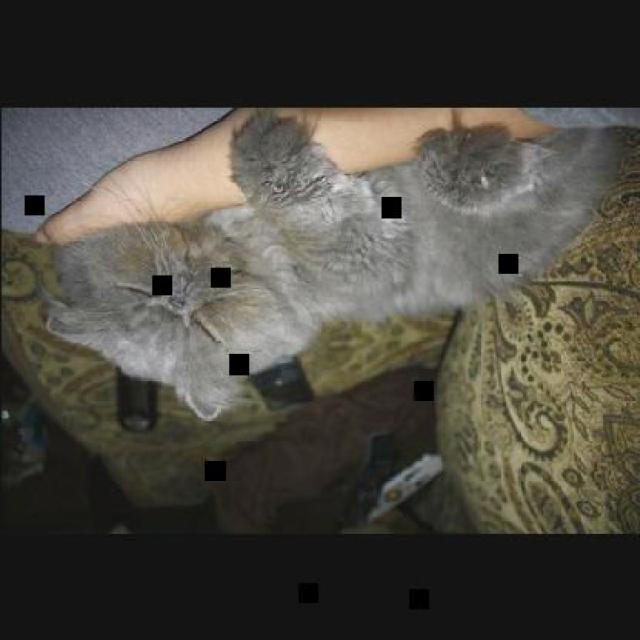unauthorized: (34, 108, 638, 422)
